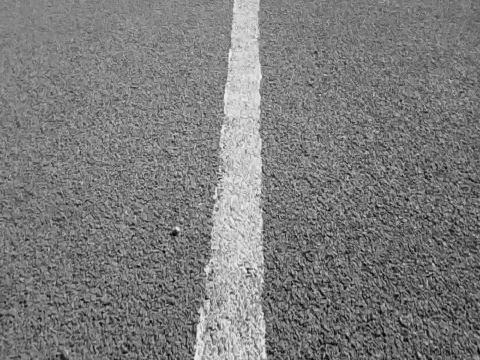Lines: (193, 0, 270, 360)
